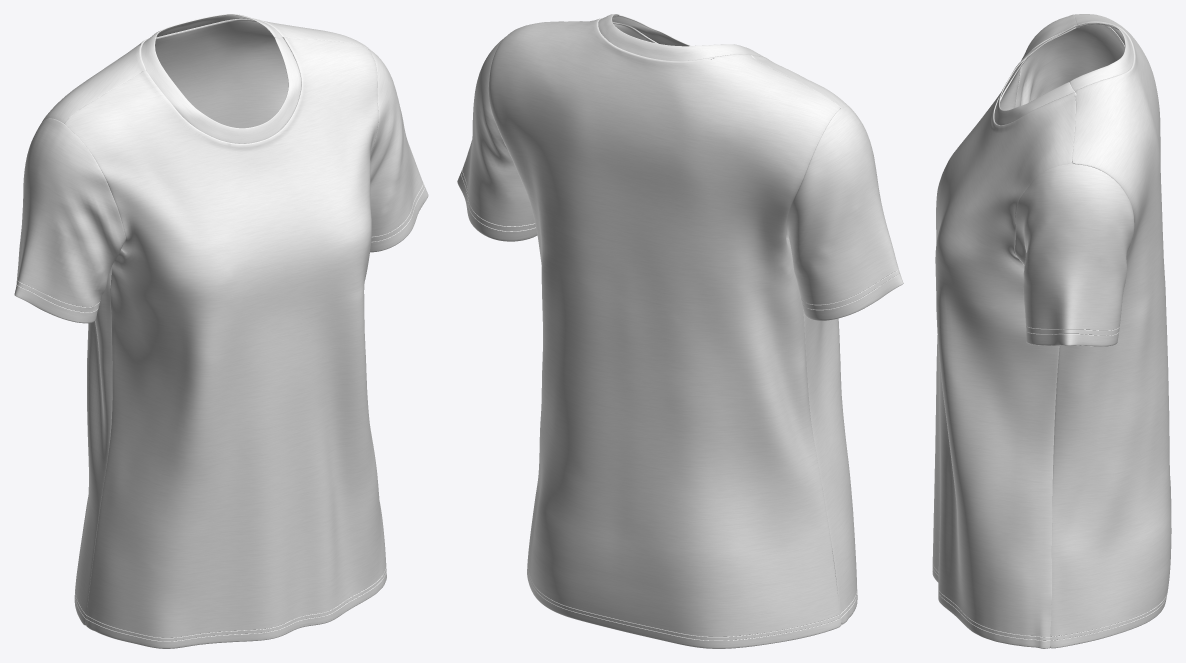
3 views of the same model, side by side, from view 1: azimuth 30°, elevation 25°; view 2: azimuth 150°, elevation 25°; view 3: azimuth 270°, elevation 25° (orthographic). The views are drawn at different scales.
Parts seen in each view (by area): view 1: Group18910, Group10091, Group37818, Group56725, Group10095; view 2: Group10091, Group37818, Group18910, Group56725, Group10095; view 3: Group18910, Group10091, Group56725, Group37818, Group10095.
Boxes of the visible parts, bbox=[...] form: Group18910: bbox=[64, 37, 386, 648]; Group10091: bbox=[42, 18, 368, 625]; Group37818: bbox=[14, 118, 125, 323]; Group56725: bbox=[369, 49, 428, 252]; Group10095: bbox=[141, 14, 301, 143]; Group10091: bbox=[488, 18, 841, 648]; Group37818: bbox=[786, 106, 903, 320]; Group18910: bbox=[530, 21, 857, 624]; Group56725: bbox=[457, 37, 537, 241]; Group10095: bbox=[598, 14, 762, 60]; Group18910: bbox=[932, 14, 1076, 648]; Group10091: bbox=[1050, 14, 1171, 648]; Group56725: bbox=[1015, 163, 1134, 346]; Group37818: bbox=[1015, 24, 1124, 162]; Group10095: bbox=[994, 22, 1133, 125].
Size of the model in its own units: 1.23 by 1.54 by 0.6215.
Materials: 5 (5 with a texture image).
